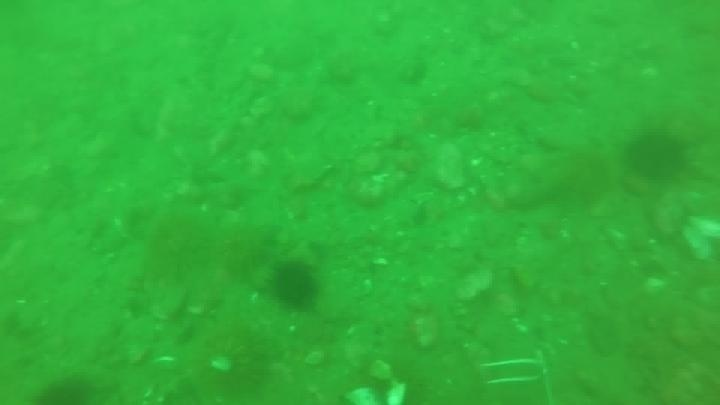echinus: (182, 322, 275, 404), (142, 209, 219, 281), (218, 220, 280, 279), (624, 129, 690, 184), (269, 260, 321, 312), (33, 375, 96, 405)
